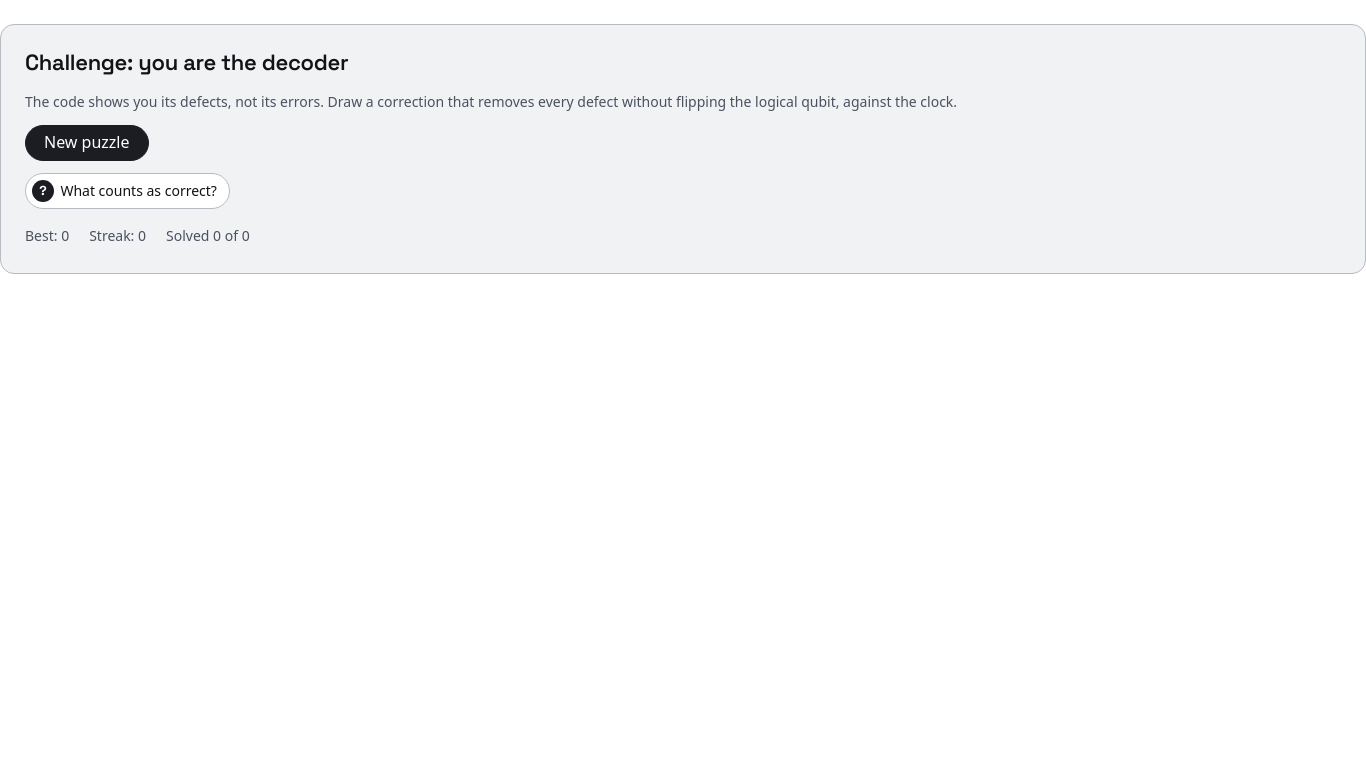
Test case: ChallengePanel › offers the link and the image while playing and after the verdict; copy writes the URL
Later steps or results of the test are not shown.
Step 1. Click the button "New puzzle" → (87, 143), box [25,125,148,161]
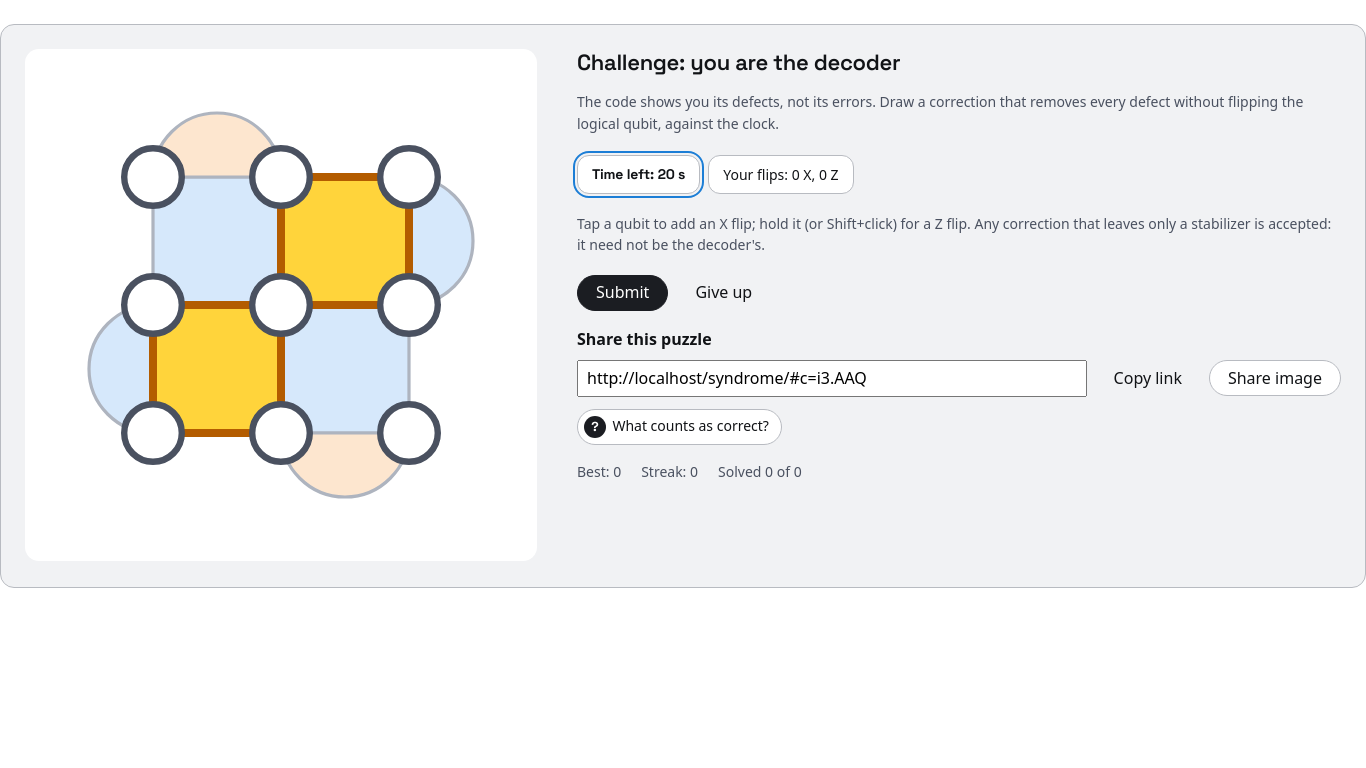
Step 2. Click the button "Copy link" → (1148, 378), box [1095,360,1201,396]
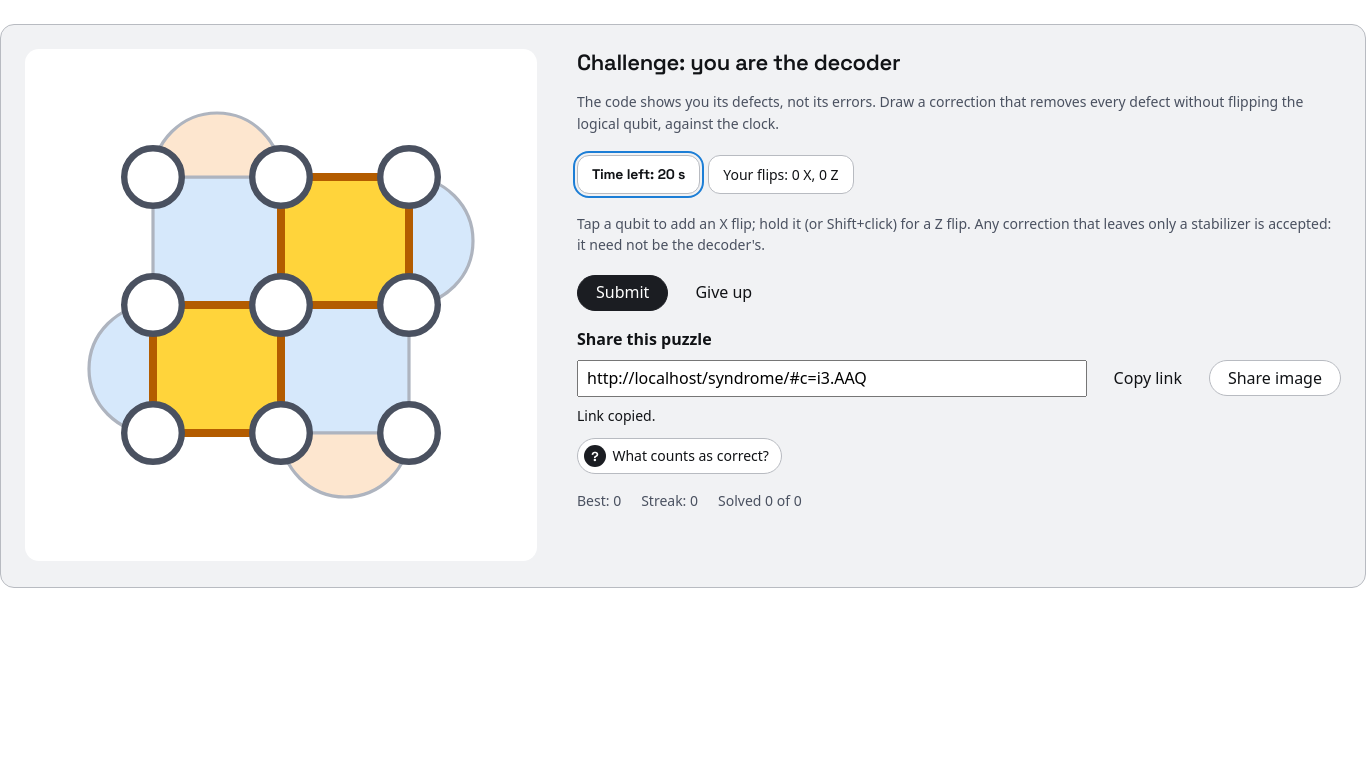
Check: the text "Link copied." is shown, box [577,406,655,425]
Step 3. Click the button "Submit" → (623, 293), box [577,275,668,311]
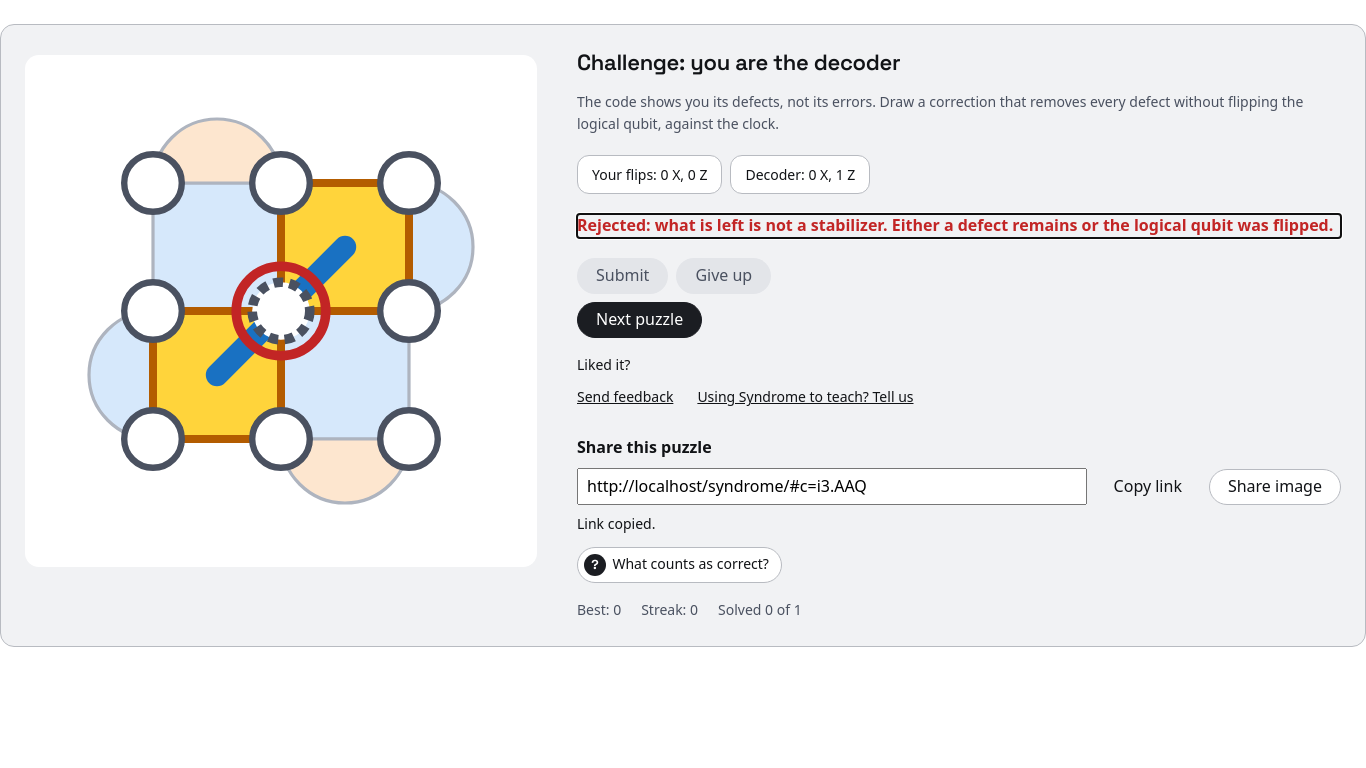
Check: the button "Share image" is shown, box [1209,468,1341,504]
